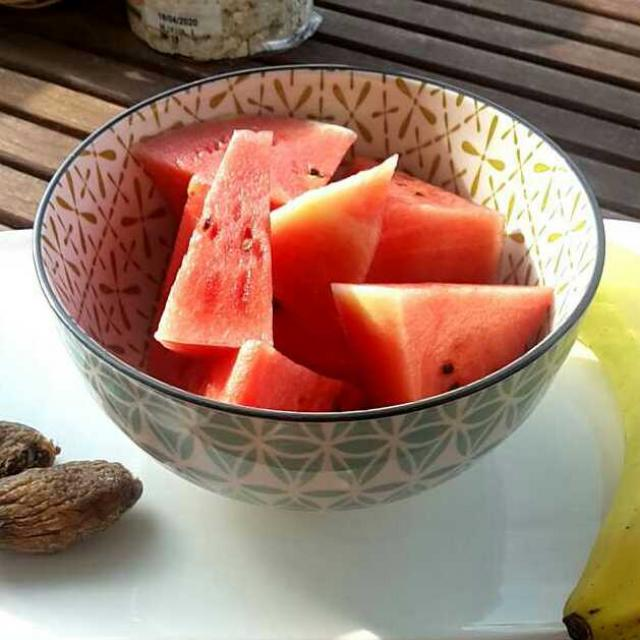watermelon-fresh: (142, 125, 550, 402)
